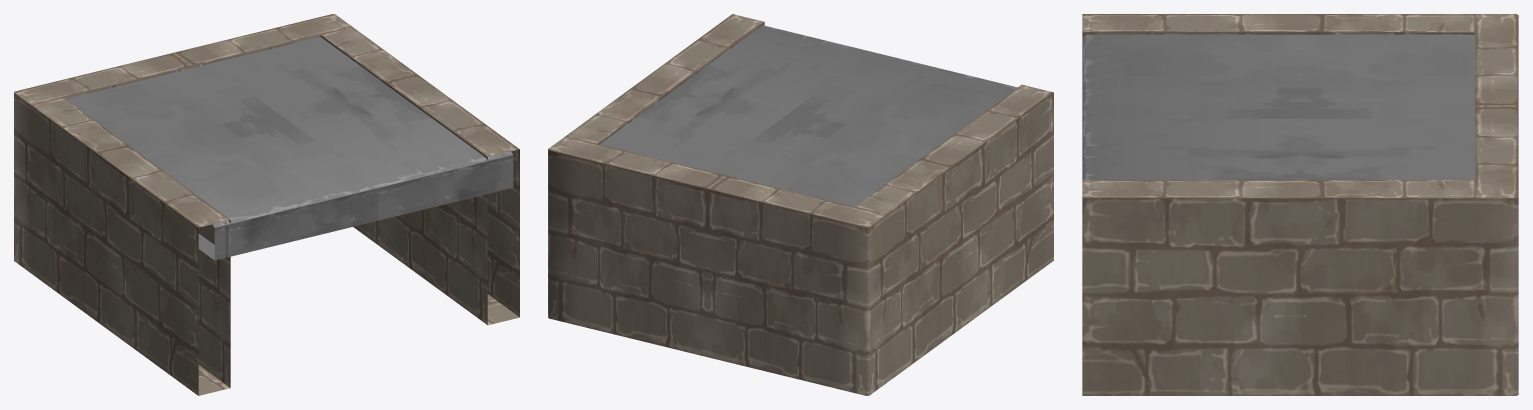
Rendered from Stairs_Exterior_PlatformU.glb.
3 views of the same model, side by side, from view 1: azimuth 30°, elevation 25°; view 2: azimuth 150°, elevation 25°; view 3: azimuth 270°, elevation 25° (orthographic). The views are drawn at different scales.
Parts seen in each view (by area): view 1: Stairs_Exterior_PlatformU; view 2: Stairs_Exterior_PlatformU; view 3: Stairs_Exterior_PlatformU.
Boxes of the visible parts, x1,y1,x2,y2 form: Stairs_Exterior_PlatformU: [14, 14, 519, 395]; Stairs_Exterior_PlatformU: [548, 14, 1053, 395]; Stairs_Exterior_PlatformU: [1082, 14, 1518, 395].
Size of the model in its own units: 2 by 0.9999 by 2.
2 materials, 2 textured.
